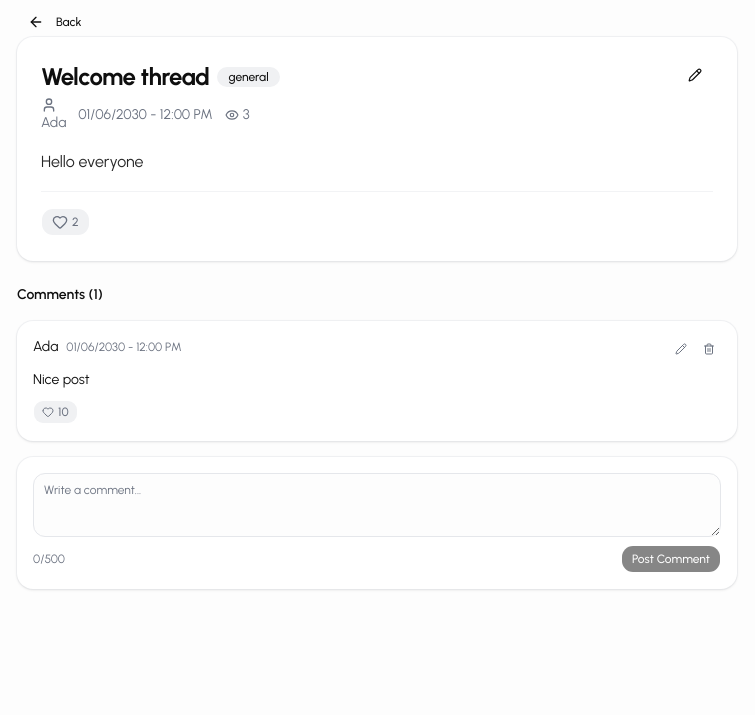
Test: discussion detail route › applies a locked gate after a failed comment creation
This screenshot has width=755, height=715.
Type "Blocked reply" into the text box with placeholder "Write a comment...".
click(377, 505); type("Blocked reply")  # box left=33, top=473, right=721, bottom=537
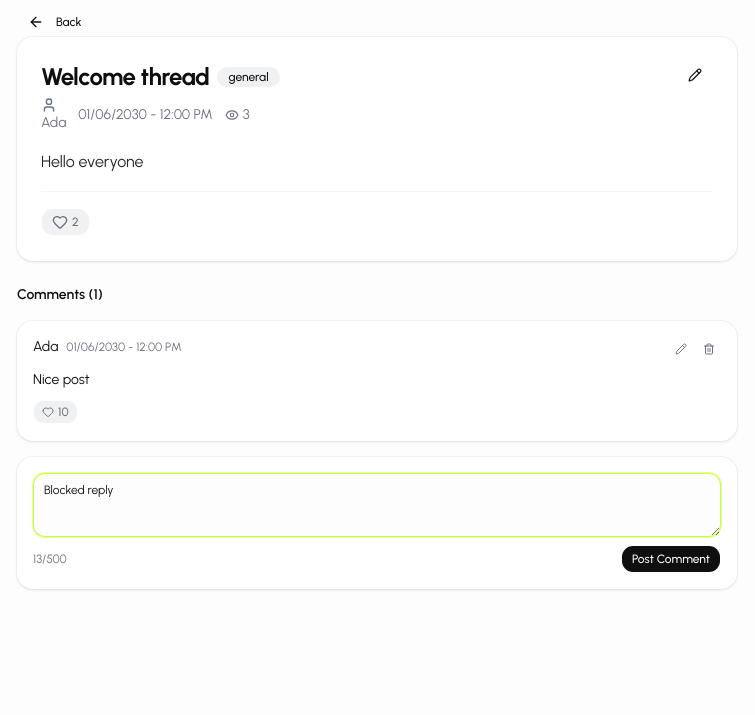
Click the button "Post Comment".
click(671, 559)  # box left=621, top=545, right=721, bottom=573
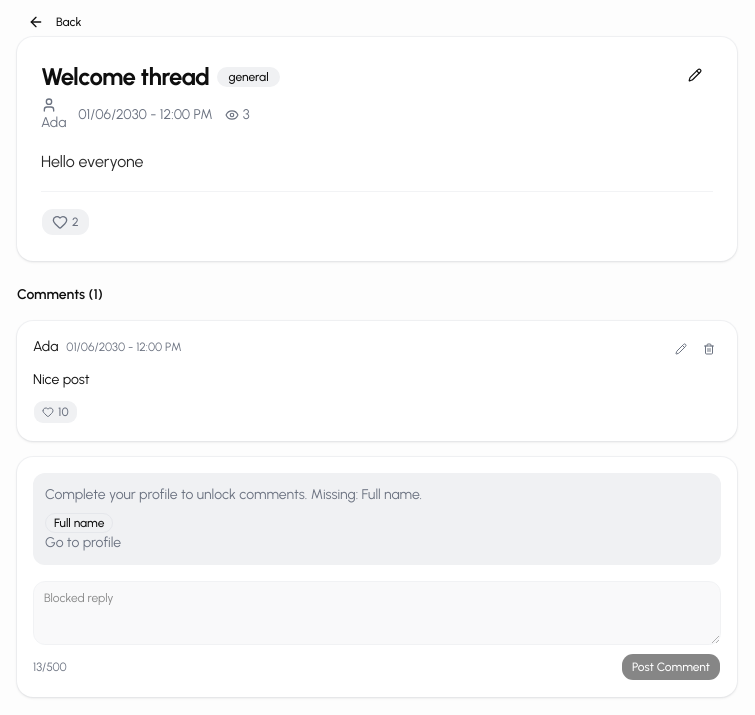
Result: the text "Complete your profile to unlock comments" is shown at left=45, top=486, right=422, bottom=503
Result: the text box with placeholder "Write a comment..." is disabled at left=33, top=581, right=721, bottom=645
